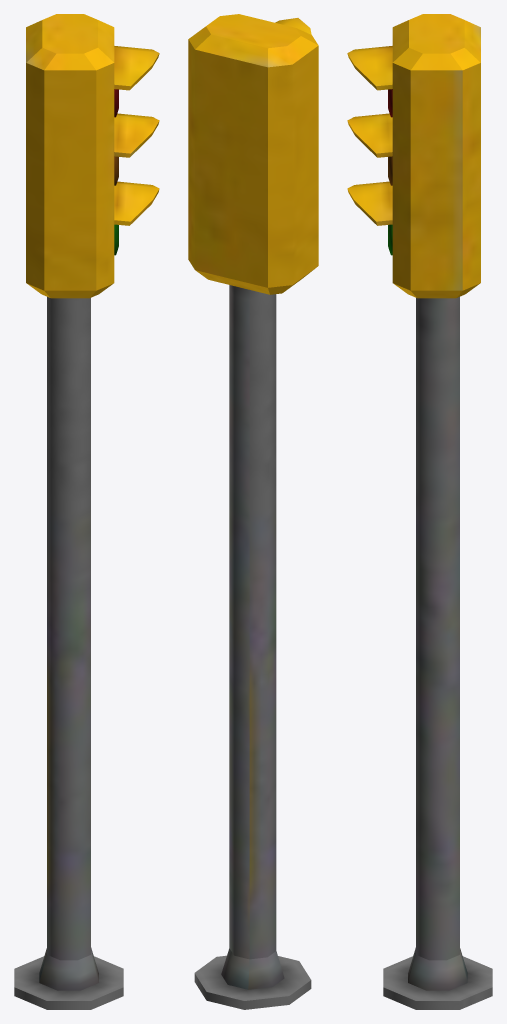
File: traffic_light.glb
3 renders of one model, left to right at view 1: azimuth 90°, elevation 25°; view 2: azimuth 150°, elevation 25°; view 3: azimuth 270°, elevation 25°, orthographic.
Parts seen in each view (by area): view 1: Traffic_Light; view 2: Traffic_Light; view 3: Traffic_Light.
Boxes of the visible parts, x1,y1,x2,y2 form: Traffic_Light: [14, 14, 159, 1009]; Traffic_Light: [188, 14, 318, 1009]; Traffic_Light: [347, 14, 492, 1009].
Bounding box in the file's own units: 0.2895 × 2.53 × 0.3499.
1 material, 1 textured.
